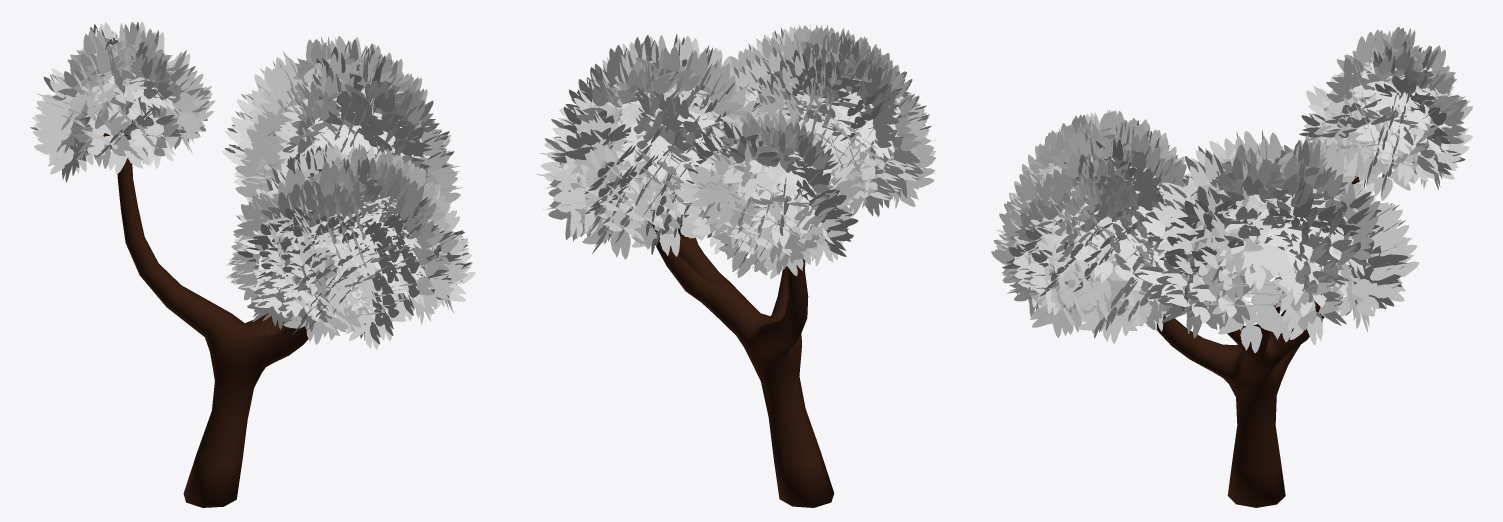
File: Pata de Vaca.fbx
3 views of the same model, side by side, from view 1: azimuth 30°, elevation 25°; view 2: azimuth 150°, elevation 25°; view 3: azimuth 270°, elevation 25° (orthographic). The views are drawn at different scales.
Parts seen in each view (by area): view 1: Folha_PataDeVaca.001, Pata Vaca_Crescido; view 2: Folha_PataDeVaca.001, Pata Vaca_Crescido; view 3: Folha_PataDeVaca.001, Pata Vaca_Crescido.
Part boxes in pixels (bbox=[...]): Folha_PataDeVaca.001: bbox=[30, 22, 475, 349]; Pata Vaca_Crescido: bbox=[103, 119, 308, 507]; Folha_PataDeVaca.001: bbox=[536, 25, 936, 278]; Pata Vaca_Crescido: bbox=[651, 210, 834, 507]; Folha_PataDeVaca.001: bbox=[991, 26, 1472, 353]; Pata Vaca_Crescido: bbox=[1156, 115, 1406, 507].
Size of the model in its own units: 227 by 254 by 258.
